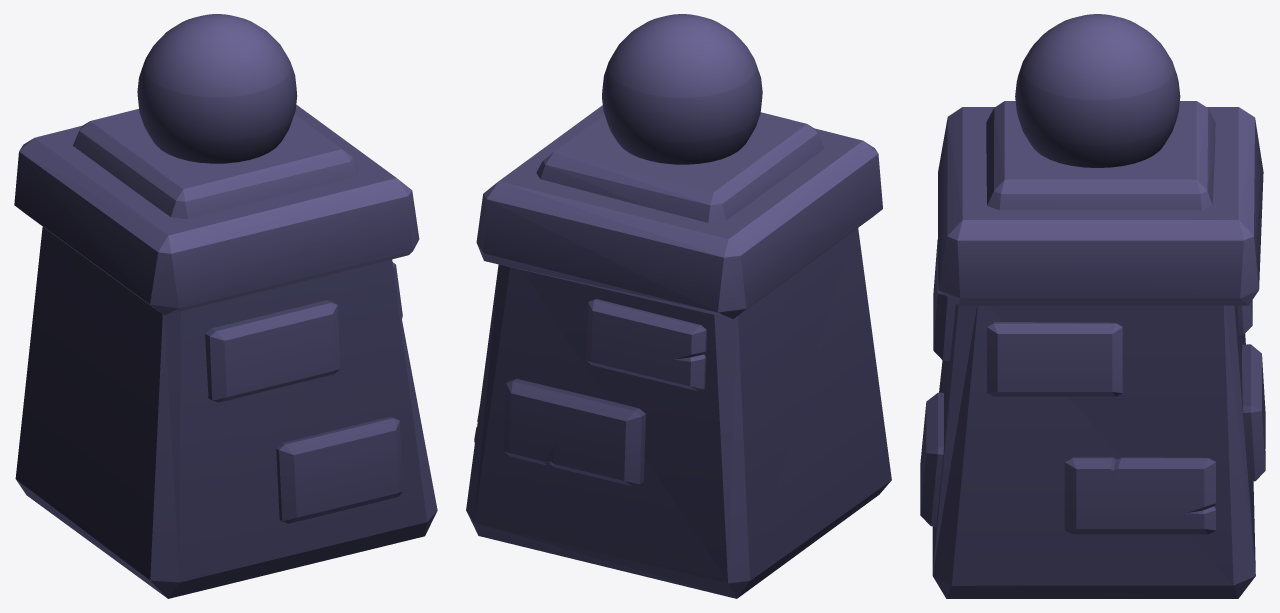
The model's file is fence_pillar_3.glb.
3 renders of one model, left to right at view 1: azimuth 30°, elevation 25°; view 2: azimuth 150°, elevation 25°; view 3: azimuth 270°, elevation 25°, orthographic. The views are drawn at different scales.
Parts seen in each view (by area): view 1: fence_pillar_3; view 2: fence_pillar_3; view 3: fence_pillar_3.
Boxes of the visible parts, bbox=[...] form: fence_pillar_3: bbox=[14, 14, 437, 598]; fence_pillar_3: bbox=[466, 14, 891, 598]; fence_pillar_3: bbox=[920, 14, 1265, 598].
Bounding box in the file's own units: 1.79 × 2.88 × 1.77.
Materials: 1 (1 with a texture image).
